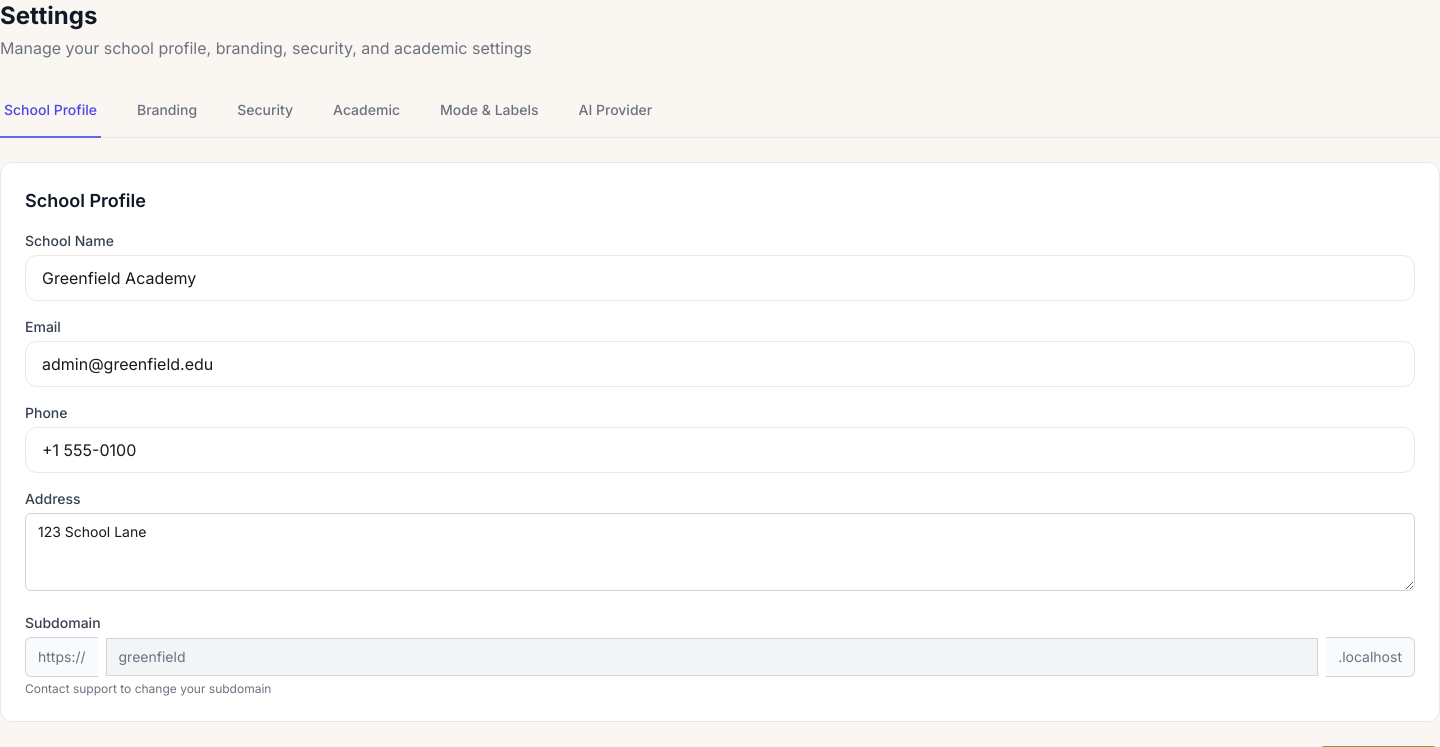
Test: SettingsPage — tab navigation › clicking the Academic tab button switches to the academic section
This screenshot has width=1440, height=747.
Expected: the text "School Name" is shown, left=25, top=232, right=114, bottom=249
Click the button "Academic": (367, 111) left=329, top=84, right=404, bottom=138
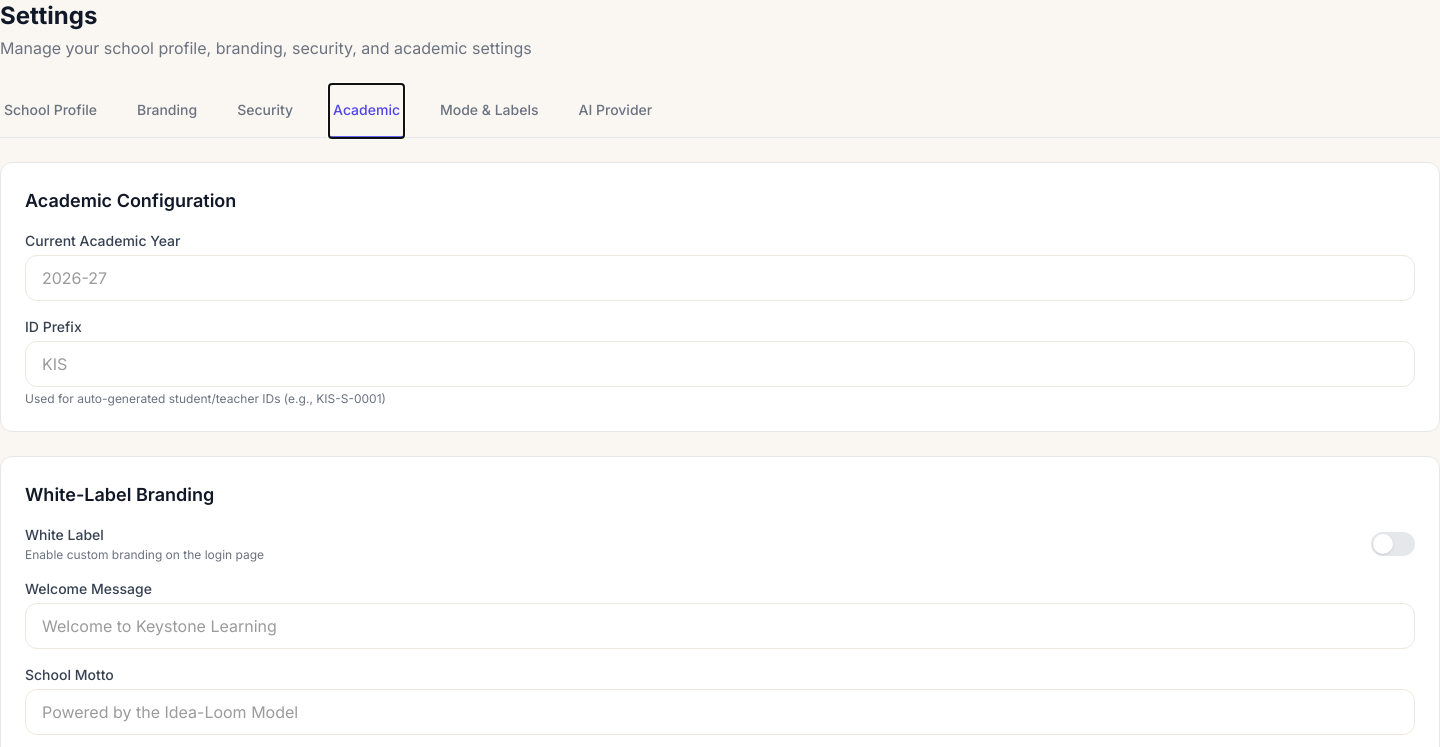
Expected: the heading "Academic Configuration" is shown, left=25, top=190, right=236, bottom=211
